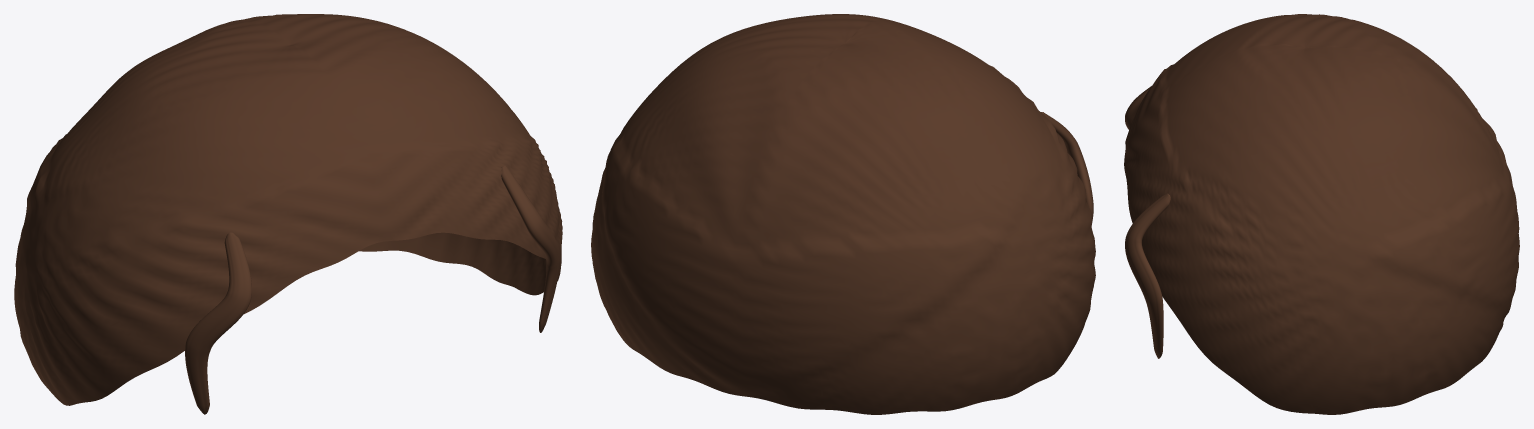
File: Highlights-e4f4a779c3c7251-hair.glb
3 views of the same model, side by side, from view 1: azimuth 30°, elevation 25°; view 2: azimuth 150°, elevation 25°; view 3: azimuth 270°, elevation 25° (orthographic). The views are drawn at different scales.
Parts seen in each view (by area): view 1: 226 hair / Hair / chestnut226.002; view 2: 226 hair / Hair / chestnut226.002; view 3: 226 hair / Hair / chestnut226.002.
Part boxes in pixels (x1,y1,x2,y2): 226 hair / Hair / chestnut226.002: [14, 14, 562, 414]; 226 hair / Hair / chestnut226.002: [591, 14, 1095, 414]; 226 hair / Hair / chestnut226.002: [1124, 14, 1519, 414].
Bounding box in the file's own units: 0.9981 × 0.5988 × 0.7846.
